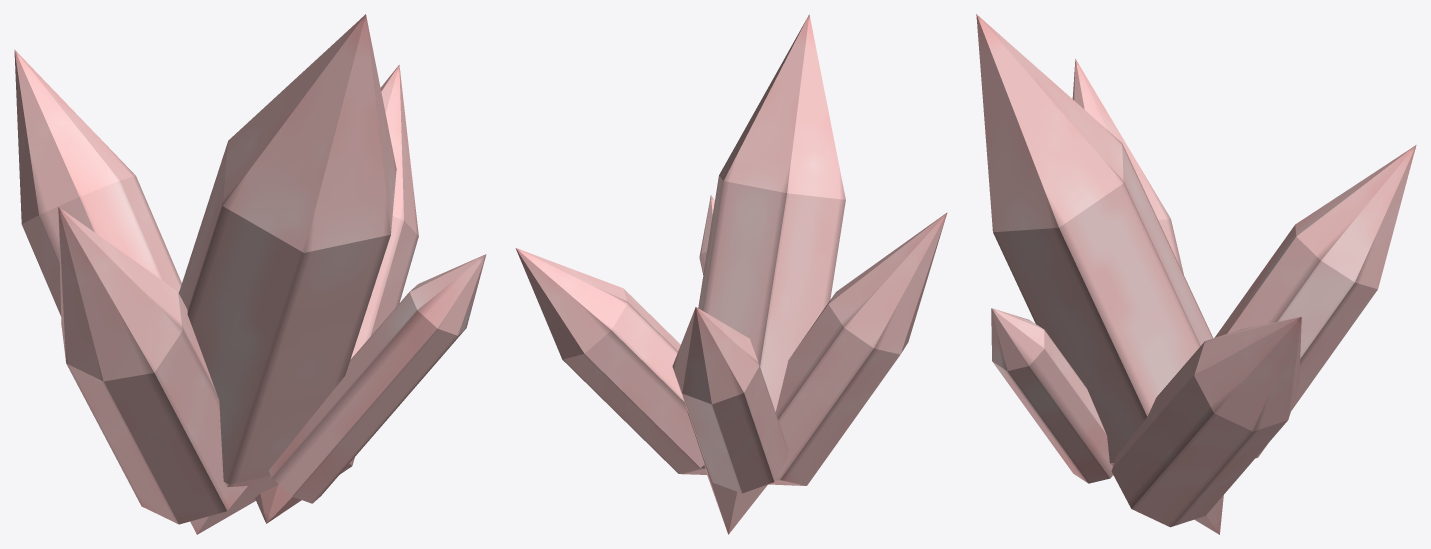
The model's file is ishi_zakura.obj.
3 renders of one model, left to right at view 1: azimuth 30°, elevation 25°; view 2: azimuth 150°, elevation 25°; view 3: azimuth 270°, elevation 25°, orthographic. The views are drawn at different scales.
Parts seen in each view (by area): view 1: center_crystal, right_crystal, front, cylinder, left_crystal; view 2: center_crystal, right_crystal, left_crystal, front; view 3: center_crystal, left_crystal, front, cylinder, right_crystal.
Boxes of the visible parts, <box> form: center_crystal: <box>179,14,396,534</box>; right_crystal: <box>58,207,247,524</box>; front: <box>14,49,181,315</box>; cylinder: <box>268,254,486,503</box>; left_crystal: <box>255,65,418,523</box>; center_crystal: <box>687,14,845,534</box>; right_crystal: <box>768,212,947,485</box>; left_crystal: <box>515,248,706,474</box>; front: <box>672,307,788,493</box>; center_crystal: <box>976,14,1223,534</box>; left_crystal: <box>1111,317,1301,527</box>; front: <box>1214,145,1416,458</box>; cylinder: <box>991,308,1112,483</box>; right_crystal: <box>1072,59,1183,274</box>.
Size of the model in its own units: 0.4156 by 0.5192 by 0.3888.
